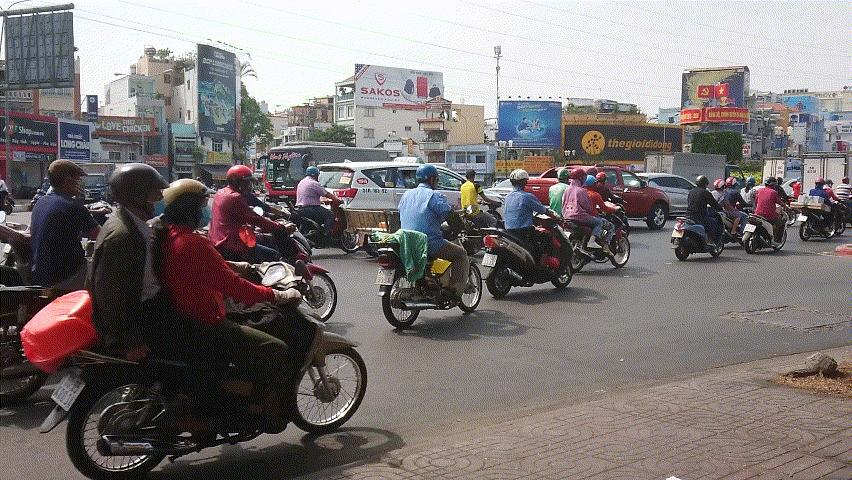driver: (17, 163, 369, 480), (373, 163, 484, 328), (483, 168, 575, 300), (561, 167, 631, 274), (286, 165, 360, 253), (670, 174, 728, 261), (740, 176, 793, 255), (790, 177, 839, 241)
helmet: (107, 162, 170, 221), (162, 176, 219, 233), (227, 164, 258, 197), (414, 163, 443, 193), (511, 169, 529, 192), (569, 168, 587, 187), (306, 165, 321, 183), (764, 177, 779, 191), (557, 168, 570, 184), (595, 172, 609, 186), (696, 175, 709, 190), (726, 177, 738, 190), (714, 179, 725, 192)
no-helmet: (47, 160, 89, 201), (465, 168, 476, 181)
